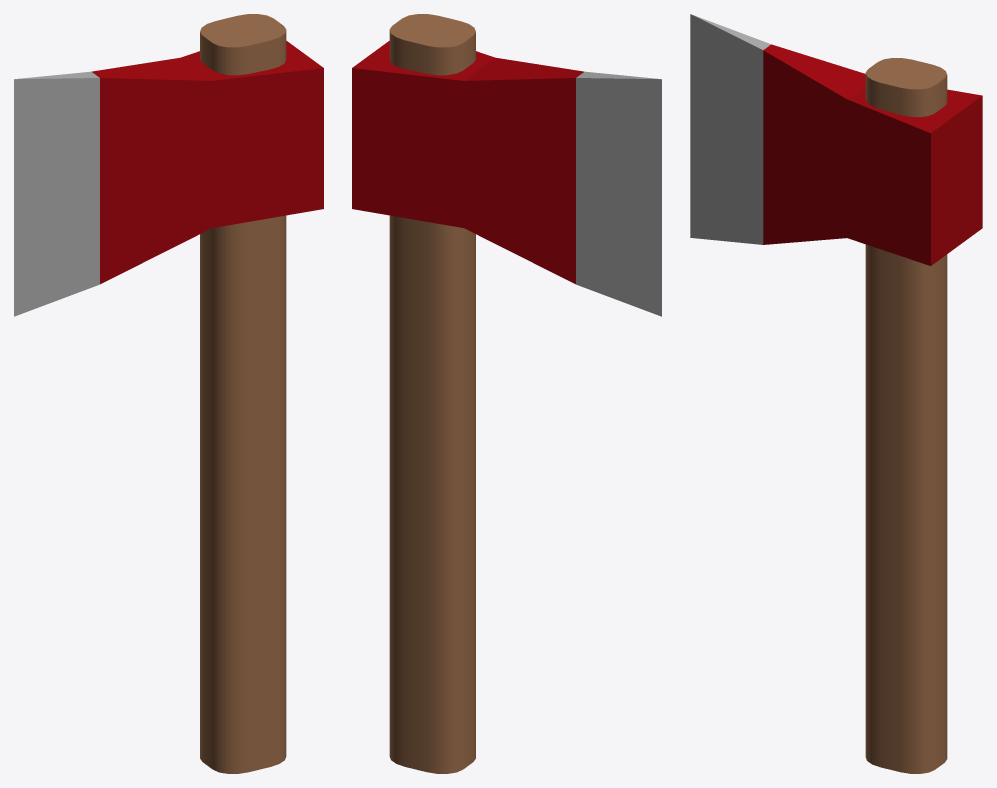
The model's file is Axe.fbx.
The picture shows the model from 3 angles, left to right: view 1: azimuth 30°, elevation 25°; view 2: azimuth 150°, elevation 25°; view 3: azimuth 330°, elevation 25°; orthographic projection. The views are drawn at different scales.
Visible parts, largest first — view 1: Cube.001, Cube; view 2: Cube.001, Cube; view 3: Cube.001, Cube.
Boxes of the visible parts, x1,y1,x2,y2 form: Cube.001: [14, 41, 323, 316]; Cube: [200, 14, 286, 773]; Cube.001: [352, 41, 661, 316]; Cube: [389, 14, 475, 773]; Cube.001: [690, 14, 982, 265]; Cube: [865, 58, 947, 773].
Bounding box in the file's own units: 134 × 333 × 45.12.
